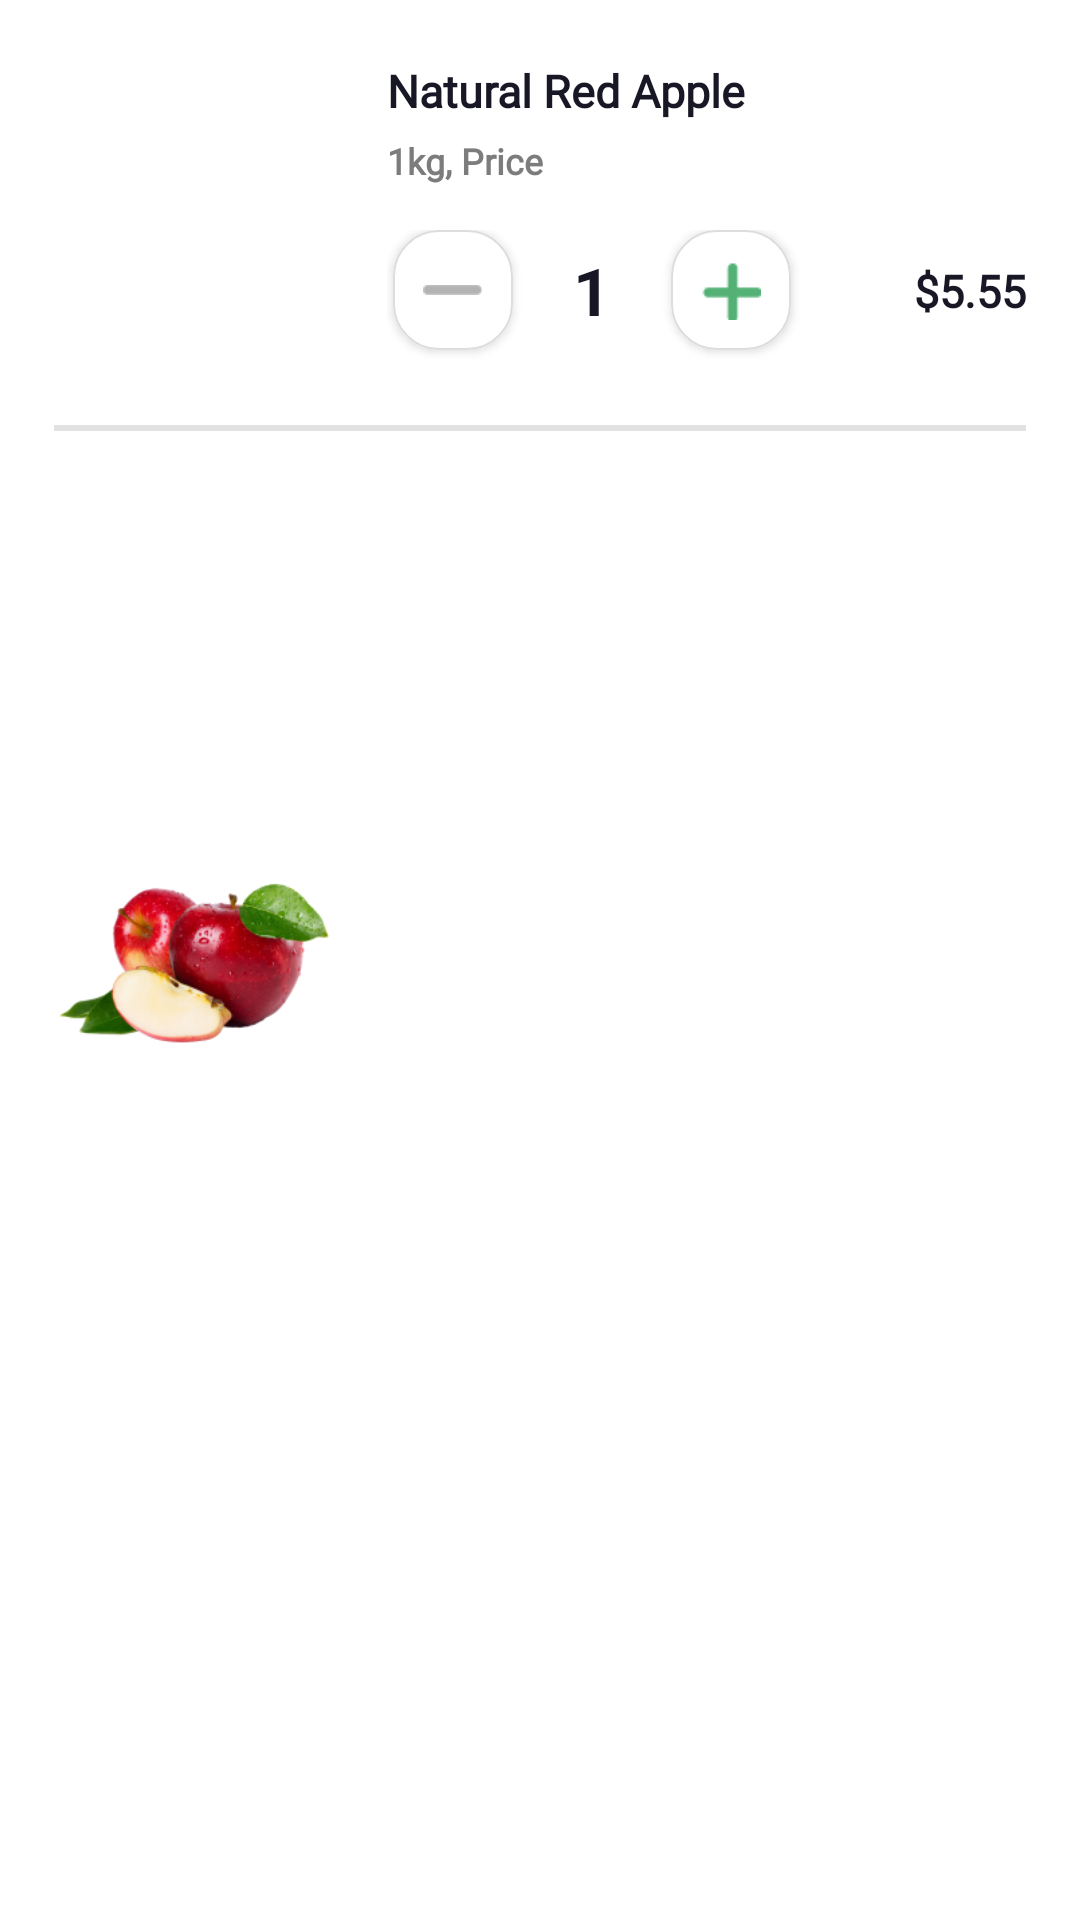

Icons on this 1080w x 1920h Android screen, each with the point to tap as (x=x, y=y):
apple: (x=194, y=963)
minus: (x=452, y=290)
plus: (x=731, y=291)
